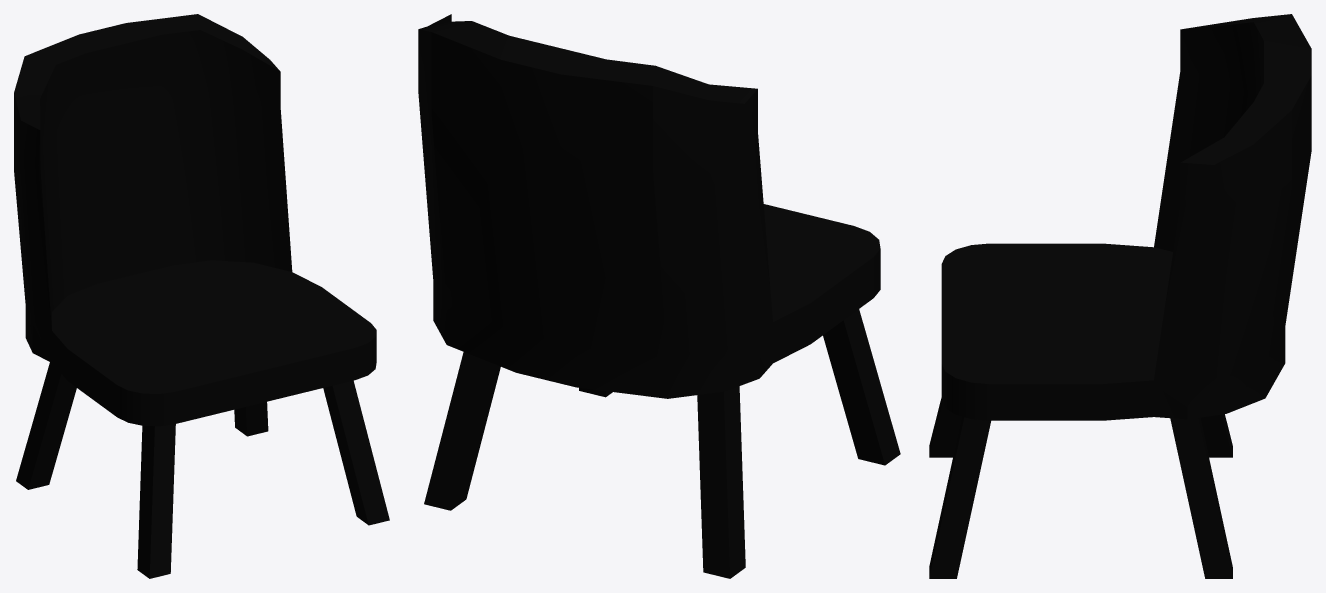
File: cafe_chair.fbx
3 views of the same model, side by side, from view 1: azimuth 30°, elevation 25°; view 2: azimuth 150°, elevation 25°; view 3: azimuth 270°, elevation 25° (orthographic). The views are drawn at different scales.
Visible parts, largest first — view 1: polySurface15; view 2: polySurface15; view 3: polySurface15.
Part boxes in pixels (x1,y1,x2,y2): polySurface15: (14, 14, 389, 578); polySurface15: (418, 14, 900, 578); polySurface15: (929, 14, 1311, 578).
Size of the model in its own units: 0.00473 by 0.00706 by 0.00543.
1 material, 1 textured.
